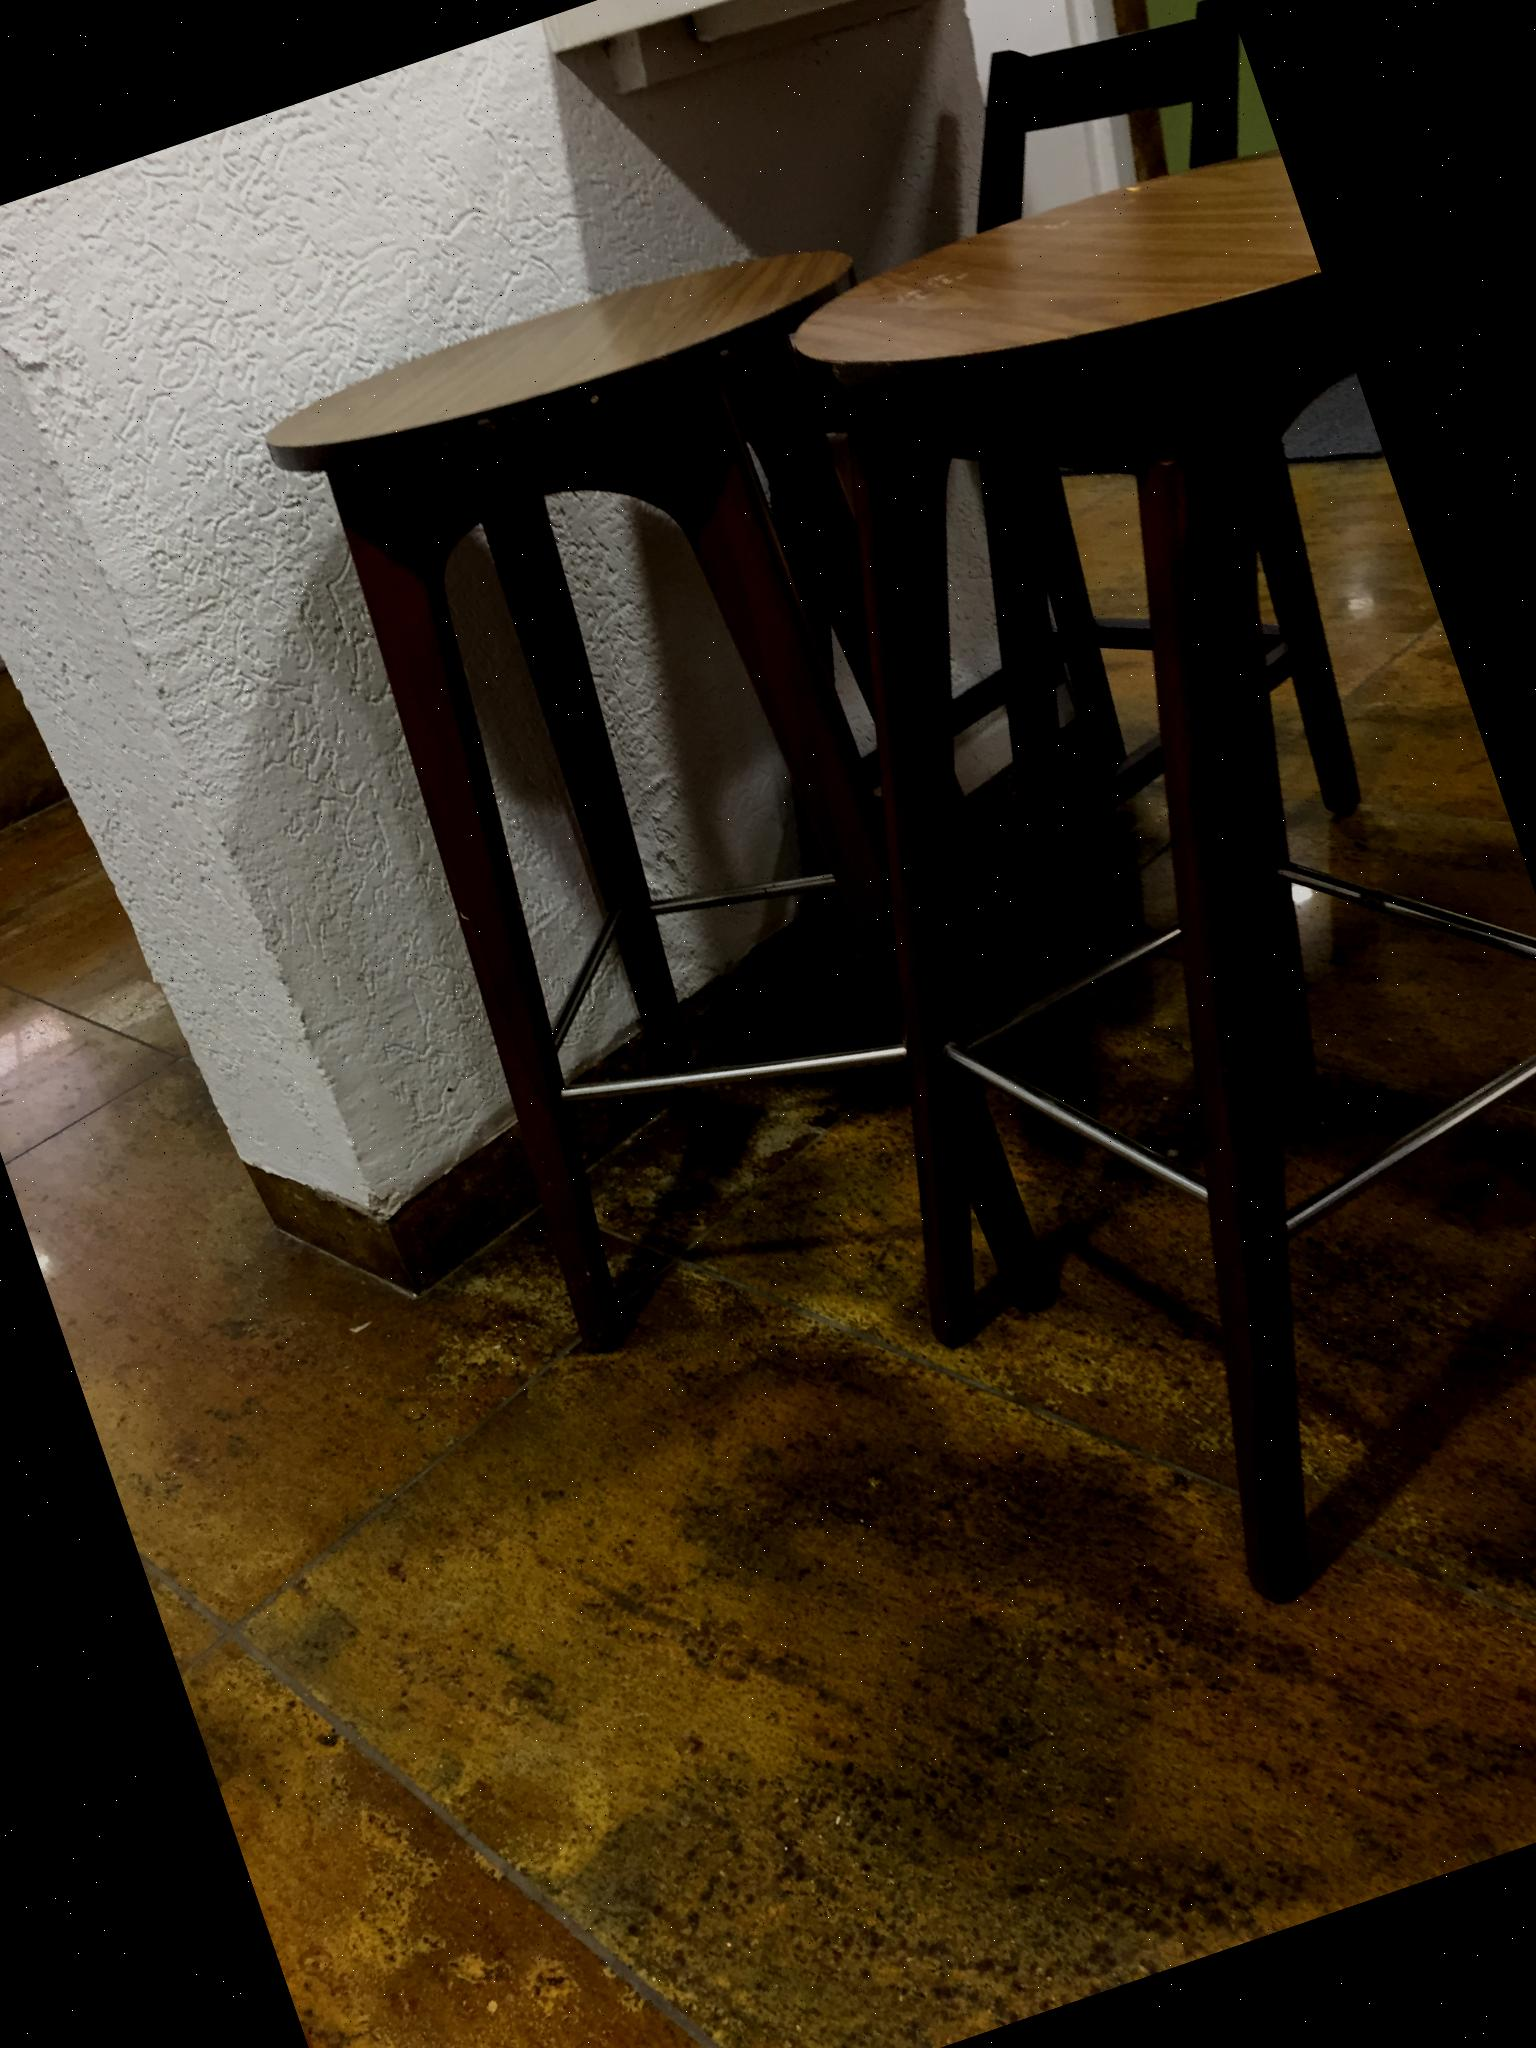chair: (542, 0, 1512, 1066)
